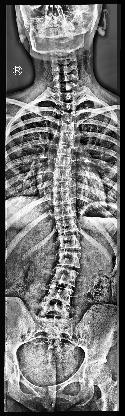Vertebrae: (38, 303, 70, 323), (45, 284, 73, 306), (52, 266, 80, 286), (58, 252, 82, 268), (56, 218, 78, 233), (60, 234, 80, 250), (52, 167, 72, 181), (54, 207, 76, 219), (52, 181, 72, 193), (57, 144, 75, 156), (52, 195, 72, 205), (61, 121, 76, 133), (54, 156, 72, 166), (60, 104, 78, 113), (60, 113, 76, 123), (60, 134, 75, 144)
